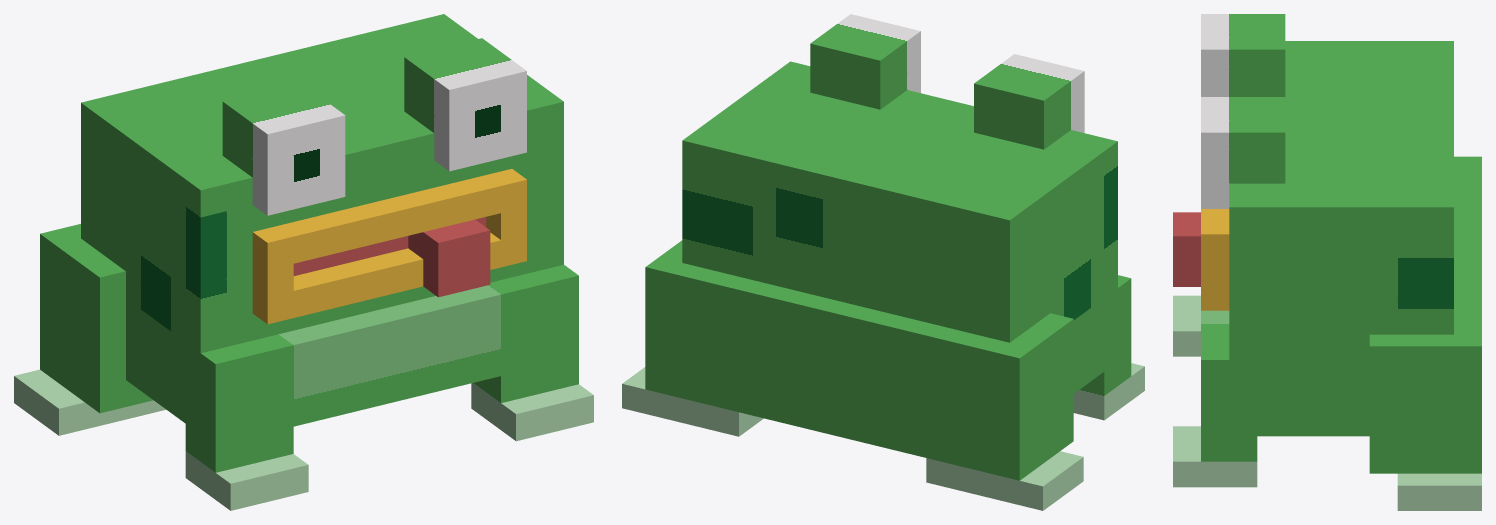
3 renders of one model, left to right at view 1: azimuth 30°, elevation 25°; view 2: azimuth 150°, elevation 25°; view 3: azimuth 270°, elevation 25°, orthographic. The views are drawn at different scales.
Parts seen in each view (by area): view 1: Matrix; view 2: Matrix; view 3: Matrix.
Part boxes in pixels (x1,y1,x2,y2): Matrix: [14, 14, 593, 510]; Matrix: [622, 14, 1144, 510]; Matrix: [1173, 14, 1481, 510].
Size of the model in its own units: 18 by 13 by 11.
1 material, 1 textured.
